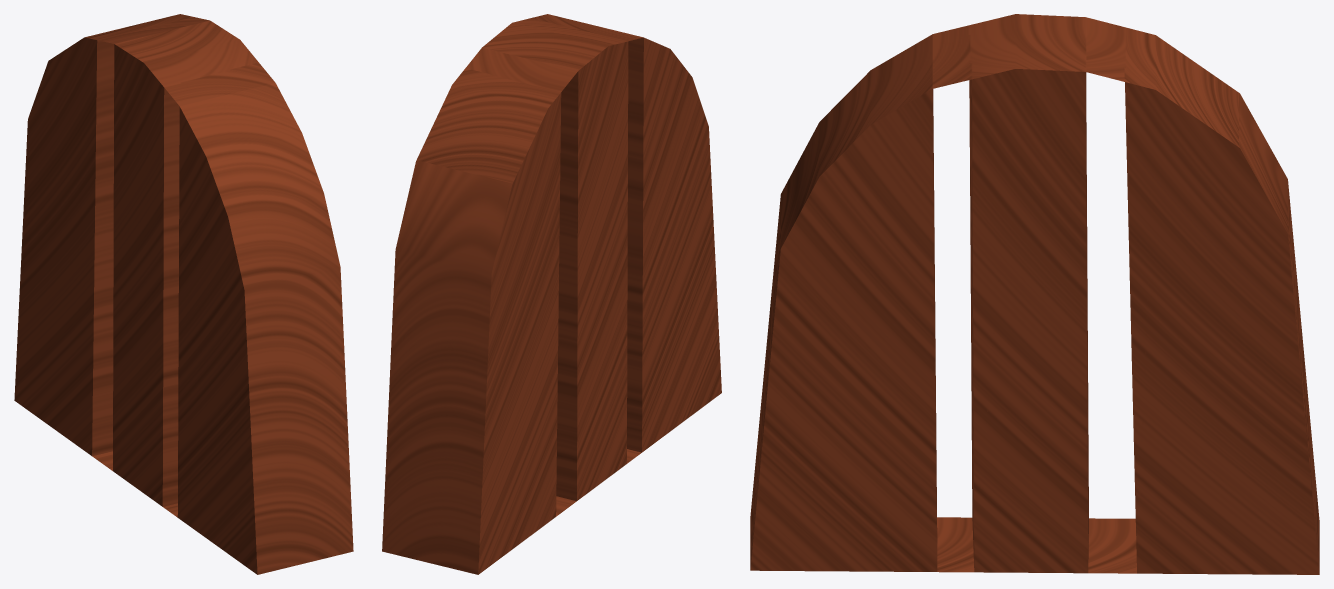
Rendered from MiddleWindow.fbx.
The picture shows the model from 3 angles, left to right: view 1: azimuth 30°, elevation 25°; view 2: azimuth 150°, elevation 25°; view 3: azimuth 270°, elevation 25°; orthographic projection. The views are drawn at different scales.
Visible parts, largest first — view 1: WoodenWindow/Medium; view 2: WoodenWindow/Medium; view 3: WoodenWindow/Medium.
Part boxes in pixels (x1=…): WoodenWindow/Medium: x1=14, y1=14, x2=353, y2=574; WoodenWindow/Medium: x1=382, y1=14, x2=721, y2=574; WoodenWindow/Medium: x1=750, y1=14, x2=1319, y2=574.
Size of the model in its own units: 39.57 by 170 by 174.
